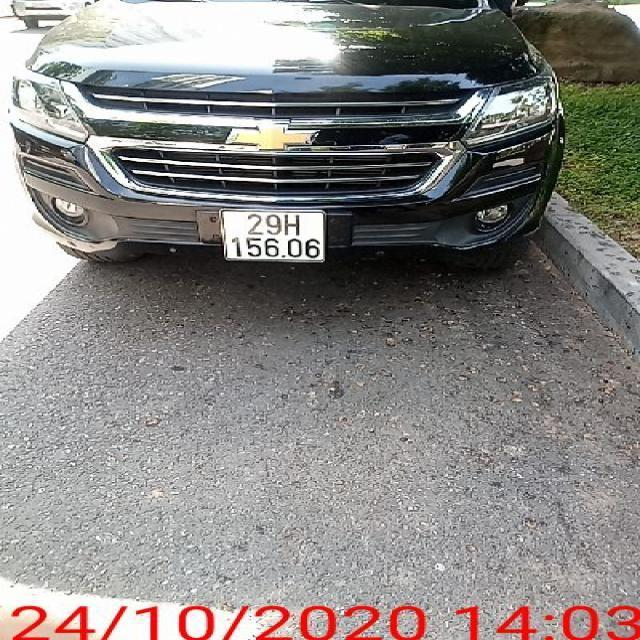bien_so_oto: (220, 208, 326, 264)
